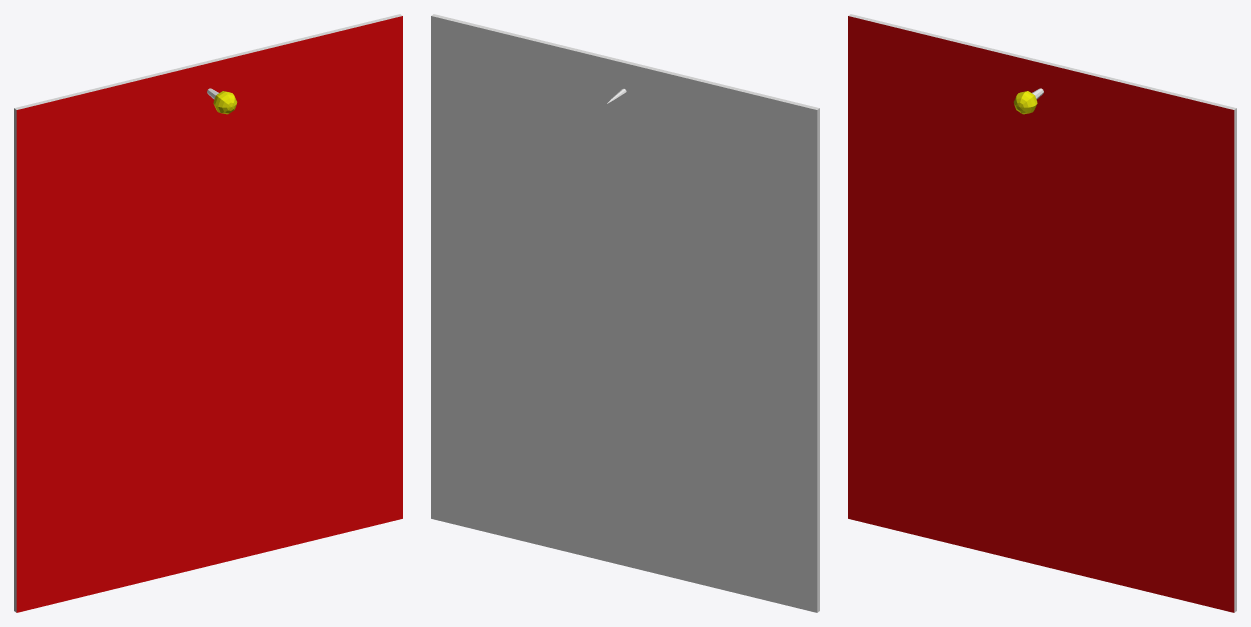
The model's file is Paper.fbx.
3 renders of one model, left to right at view 1: azimuth 30°, elevation 25°; view 2: azimuth 150°, elevation 25°; view 3: azimuth 330°, elevation 25°, orthographic.
Visible parts, largest first — view 1: Paper; view 2: Paper; view 3: Paper.
Boxes of the visible parts, box(x1,y1,x2,y2) form: Paper: box(14, 14, 402, 612); Paper: box(431, 14, 819, 612); Paper: box(848, 14, 1236, 612).
Size of the model in its own units: 45 by 8.5 by 56.
